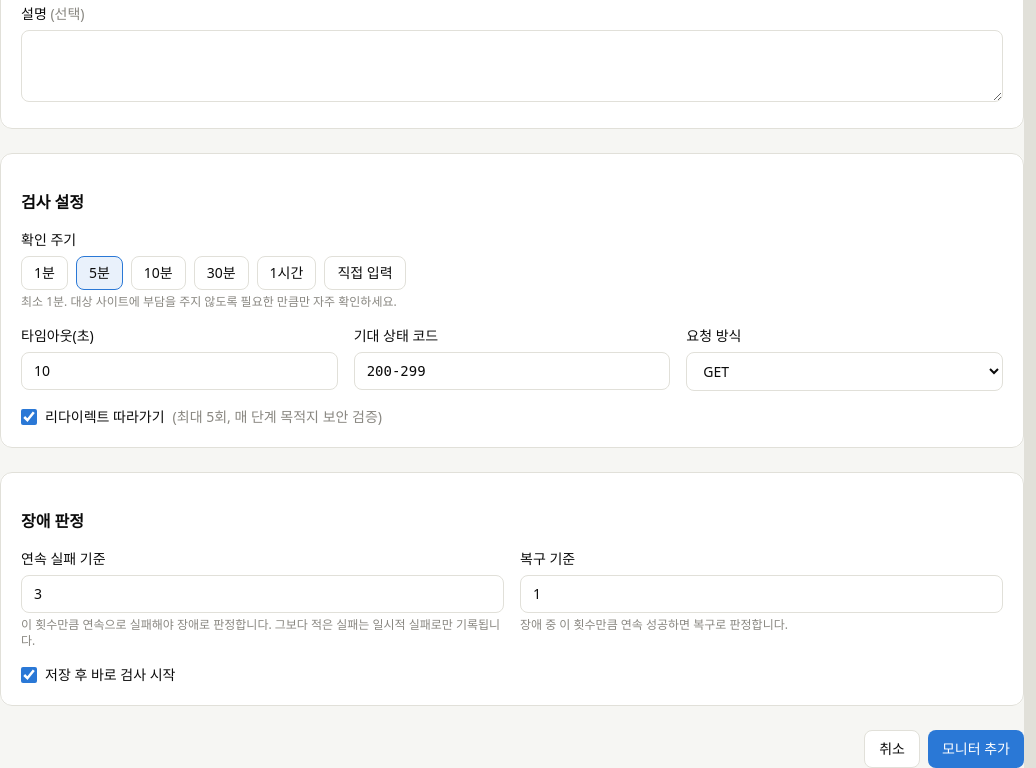
Test case: MonitorForm › 오류가 있으면 제출하지 않고 메시지를 보여준다
The image size is (1036, 768).
(page scrolled)
Step 1. Click the button "모니터 추가" → (976, 749), box x1=928 y1=730 x2=1024 y2=767
(page scrolled)
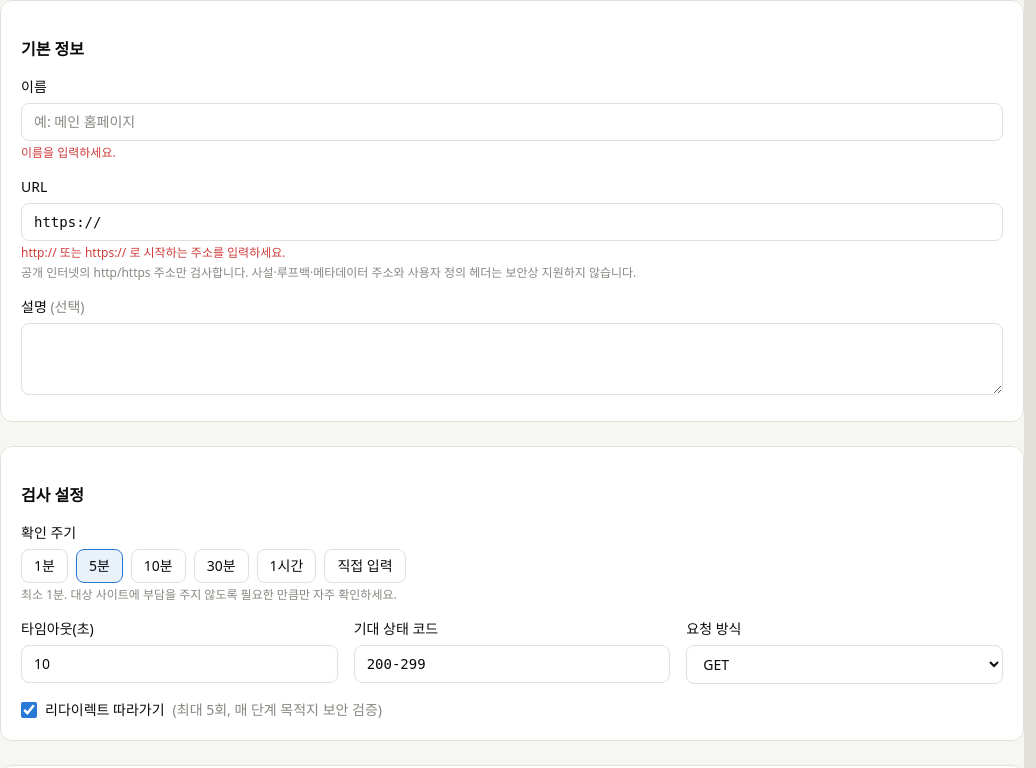
expect the text "이름을 입력하세요." is shown: met, box x1=21 y1=144 x2=116 y2=161
